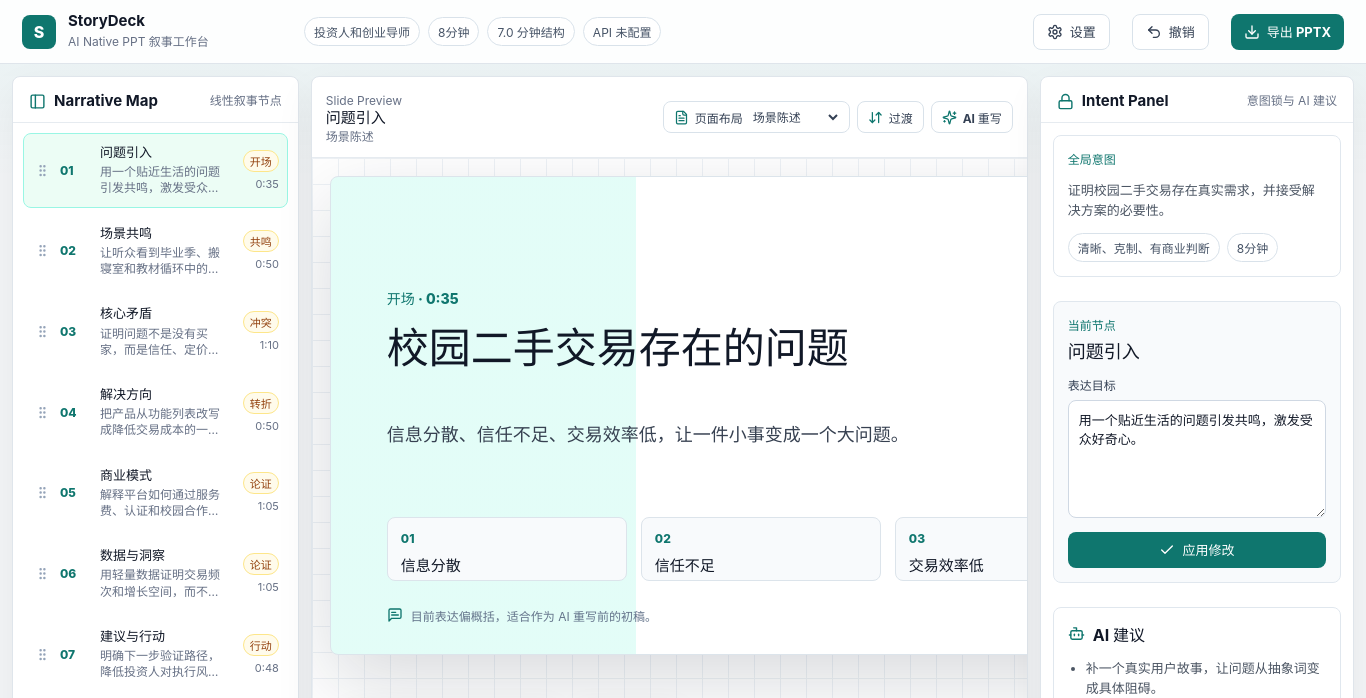
Test: StoryDeck application shell › undoes the latest deck edit from the top bar
Check: the button "撤销" is disabled, box [1132,14,1209,50]
Select "流程路径" in the dropdown labelled "页面布局" at x=795, y=117, box [749,109,841,126]
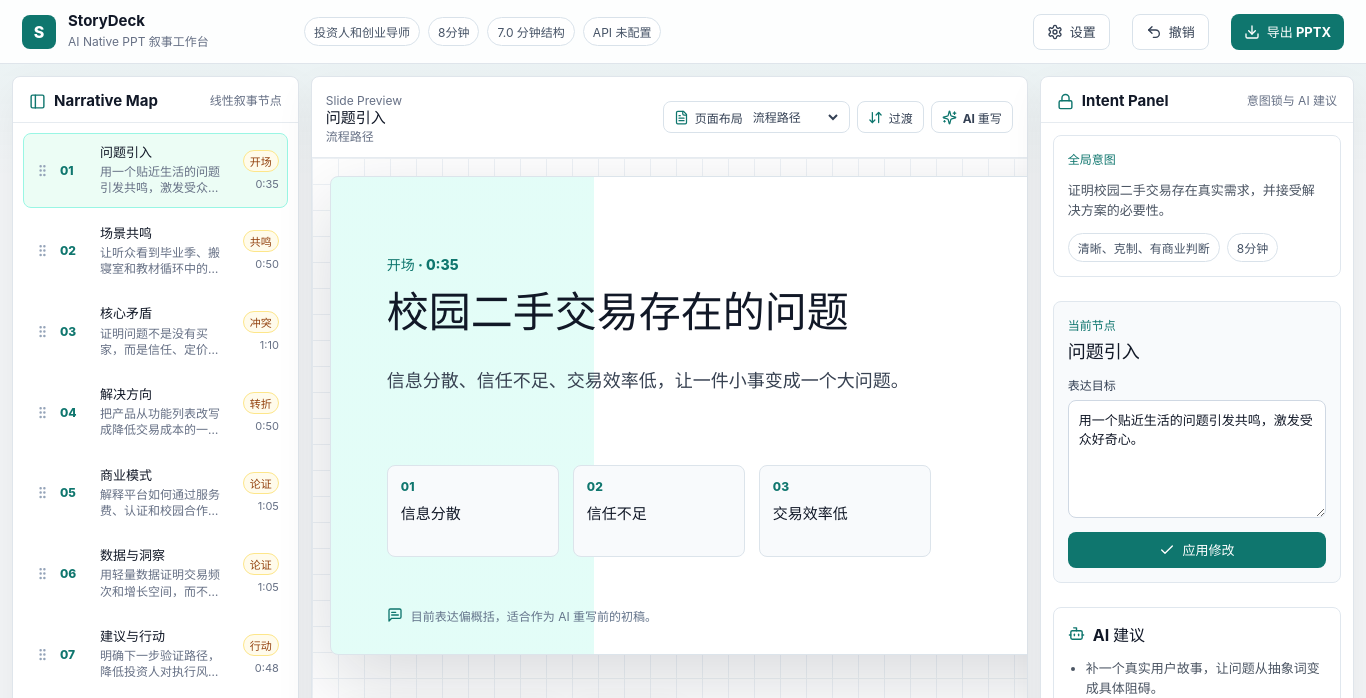
Click the button "撤销".
click(1170, 32)  # box [1132,14,1209,50]
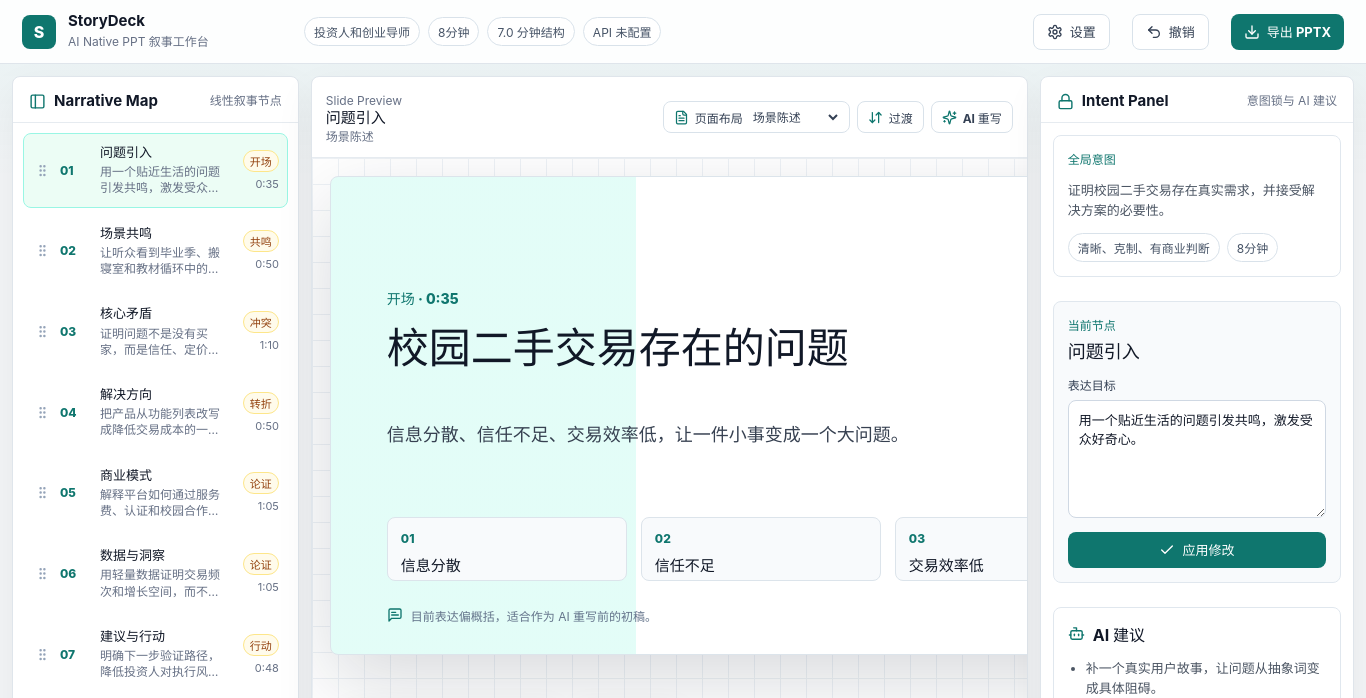
Check: the text "场景陈述" is shown, box [326,129,374,144]
